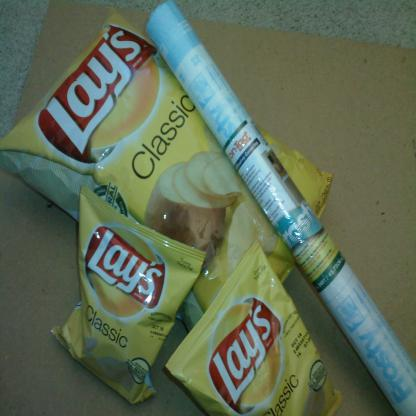potatochip: (0, 6, 337, 370), (48, 177, 211, 408), (159, 233, 347, 416)
